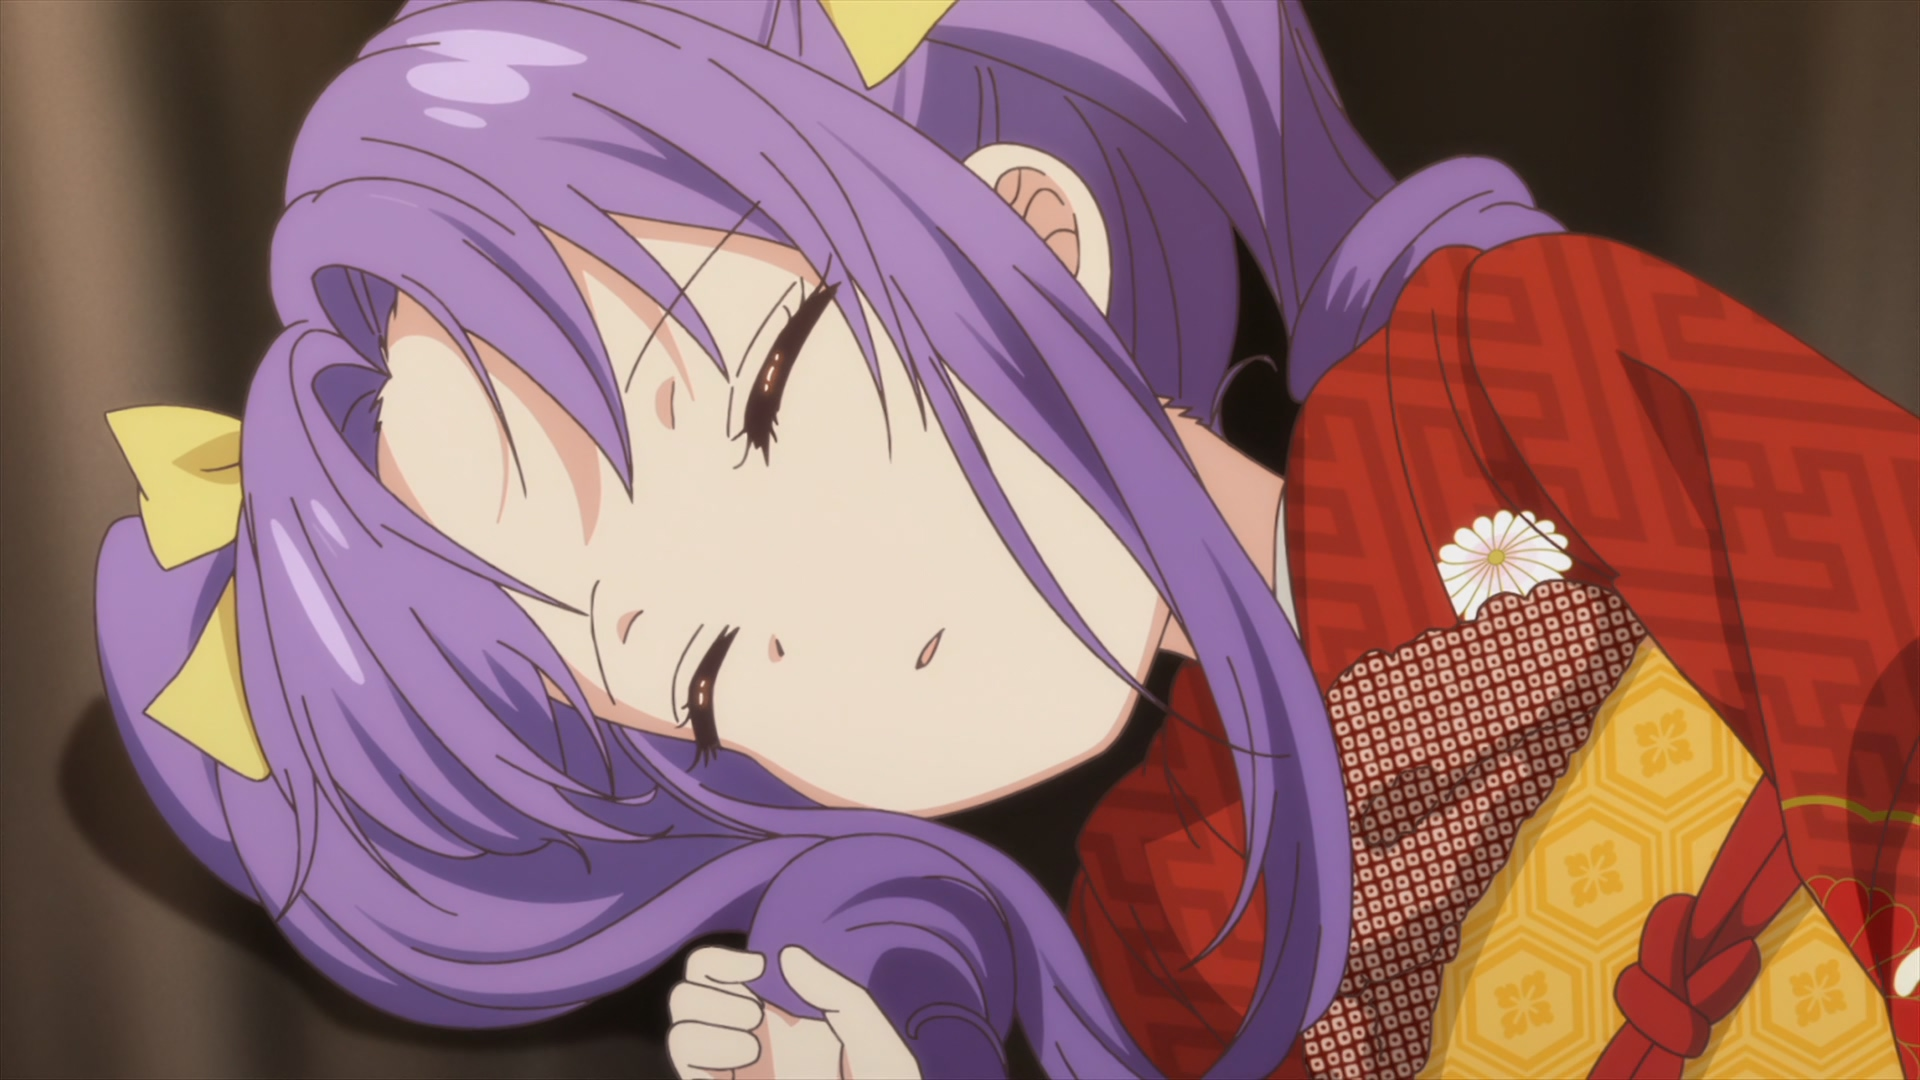阿菊: (98, 1, 1920, 1080)
